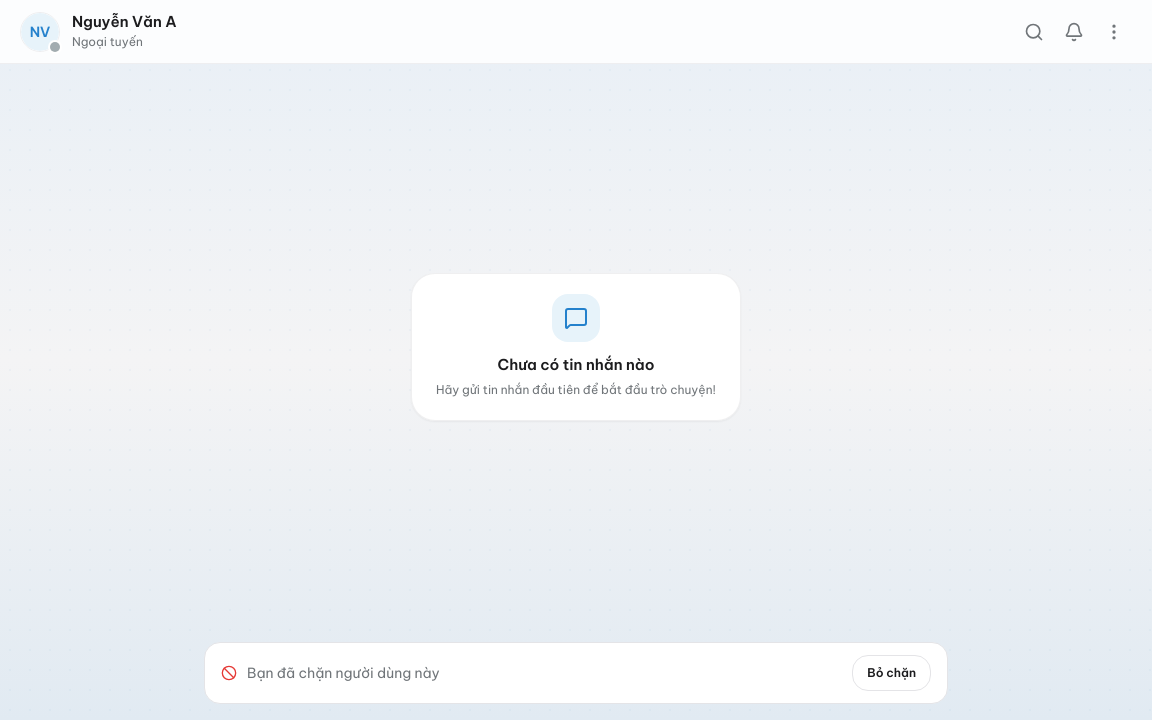
Test: ActiveChatCanvas - block lock, menu actions, realtime join › BR-38 composer lock › "Bỏ chặn" calls unblock API then restores the composer
Click the button with test id "unblock-button". click: {"x": 892, "y": 673}
box: [852,655,931,691]
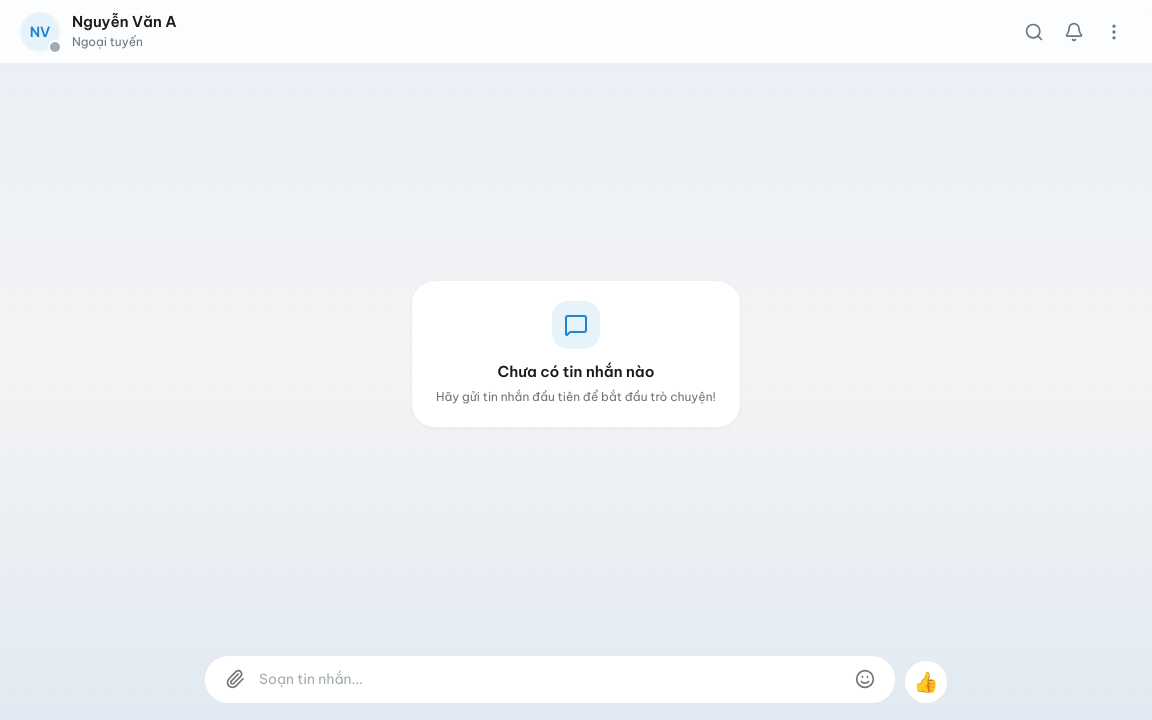
Expected: the text box named "Nội dung tin nhắn" is shown, [251,662,849,697]
